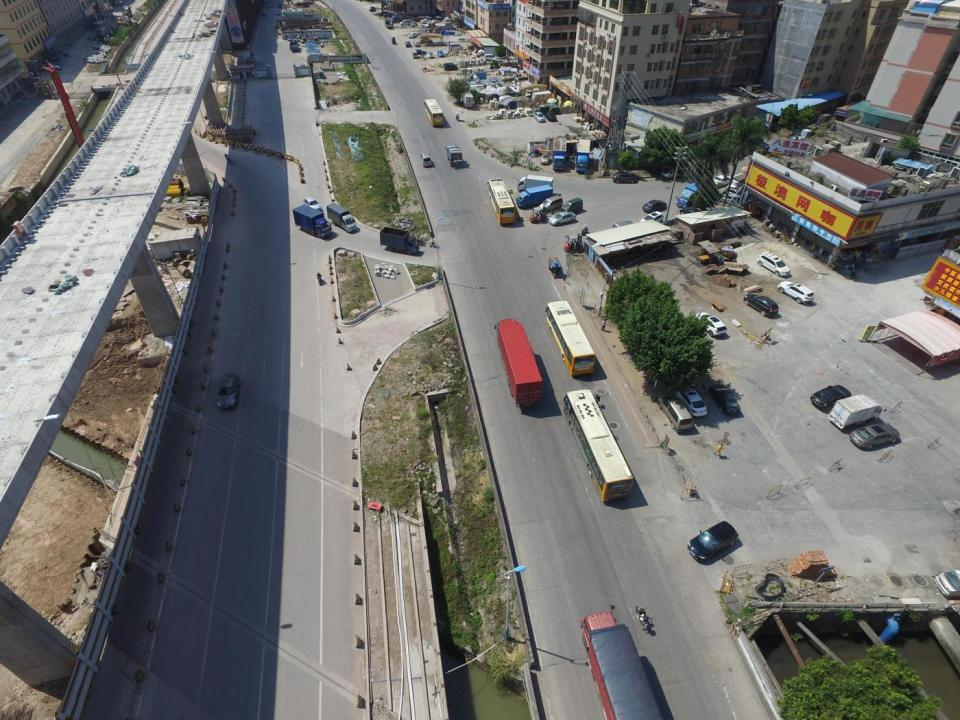bus: (563, 390, 634, 503), (545, 300, 596, 377), (487, 178, 516, 224), (424, 99, 444, 127)
car: (686, 520, 738, 562), (849, 423, 900, 450), (811, 384, 851, 410), (710, 384, 741, 416), (676, 387, 708, 417), (743, 293, 779, 318), (217, 372, 239, 412), (694, 312, 727, 337), (778, 281, 814, 303), (934, 569, 960, 598), (548, 211, 576, 225), (640, 211, 664, 227), (643, 199, 667, 214), (723, 186, 749, 199), (304, 197, 323, 214), (612, 172, 638, 183), (709, 175, 730, 188), (679, 206, 705, 216), (662, 168, 681, 178), (43, 62, 61, 72), (533, 112, 546, 123), (546, 112, 557, 121), (540, 154, 548, 166), (412, 50, 427, 55), (493, 57, 504, 62), (408, 32, 416, 38), (420, 18, 432, 22), (420, 38, 432, 42), (368, 6, 376, 11), (437, 51, 444, 56), (406, 41, 411, 47), (414, 41, 420, 46)
van: (580, 613, 663, 720), (494, 318, 542, 406), (828, 394, 882, 430), (292, 204, 332, 238), (657, 394, 693, 431), (380, 226, 420, 255), (677, 179, 712, 210), (326, 202, 358, 232), (756, 251, 790, 278), (516, 185, 553, 207), (517, 175, 553, 193), (576, 139, 591, 174), (612, 220, 638, 240), (552, 137, 567, 170), (444, 145, 464, 166), (728, 173, 748, 192), (560, 197, 583, 213), (723, 194, 745, 209), (539, 196, 561, 209), (462, 90, 475, 108), (421, 153, 433, 167), (290, 39, 298, 52), (444, 63, 458, 70), (400, 19, 412, 26), (450, 43, 461, 50), (485, 54, 495, 61), (384, 20, 394, 27), (428, 52, 434, 57), (413, 52, 418, 57)
